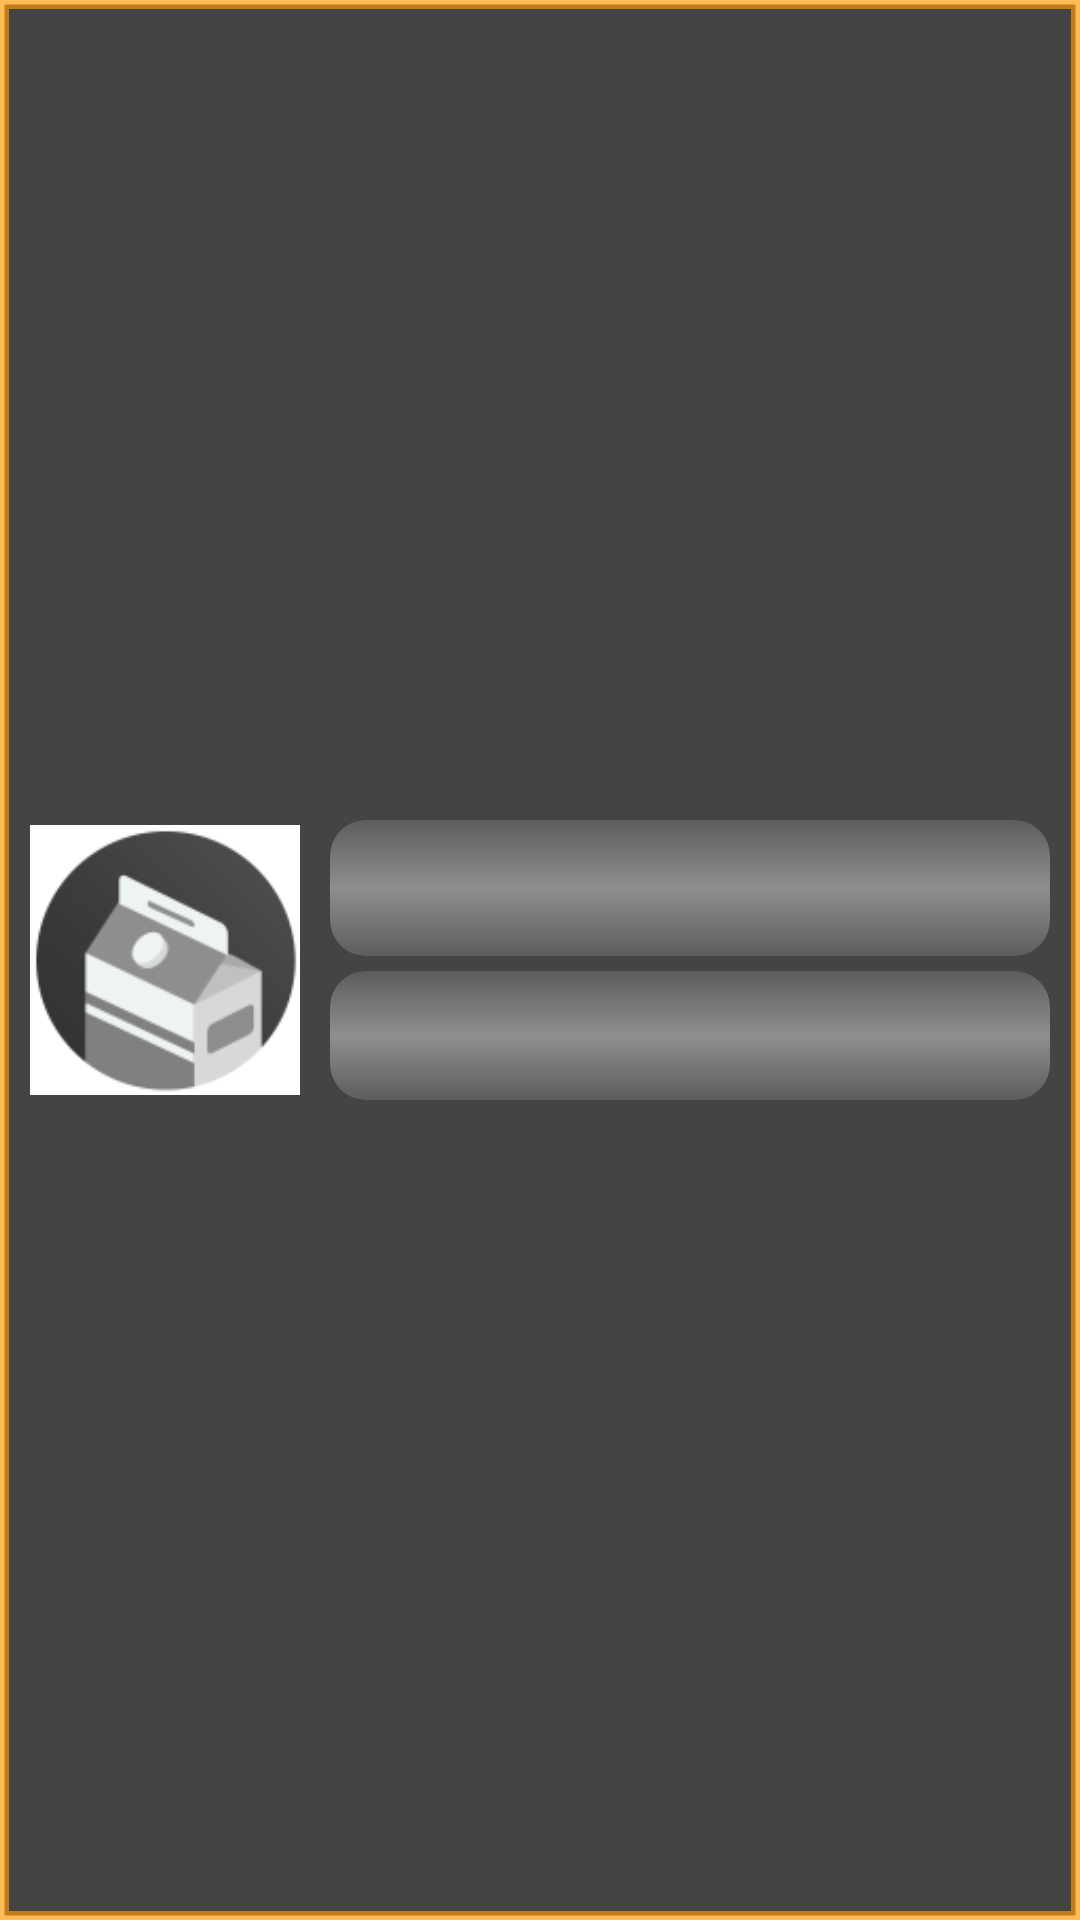

Where icons sit on this 1080w x 1920h app screen, as (x1, y1, x2, y2):
List Item Product Image: (30, 825, 300, 1095)
